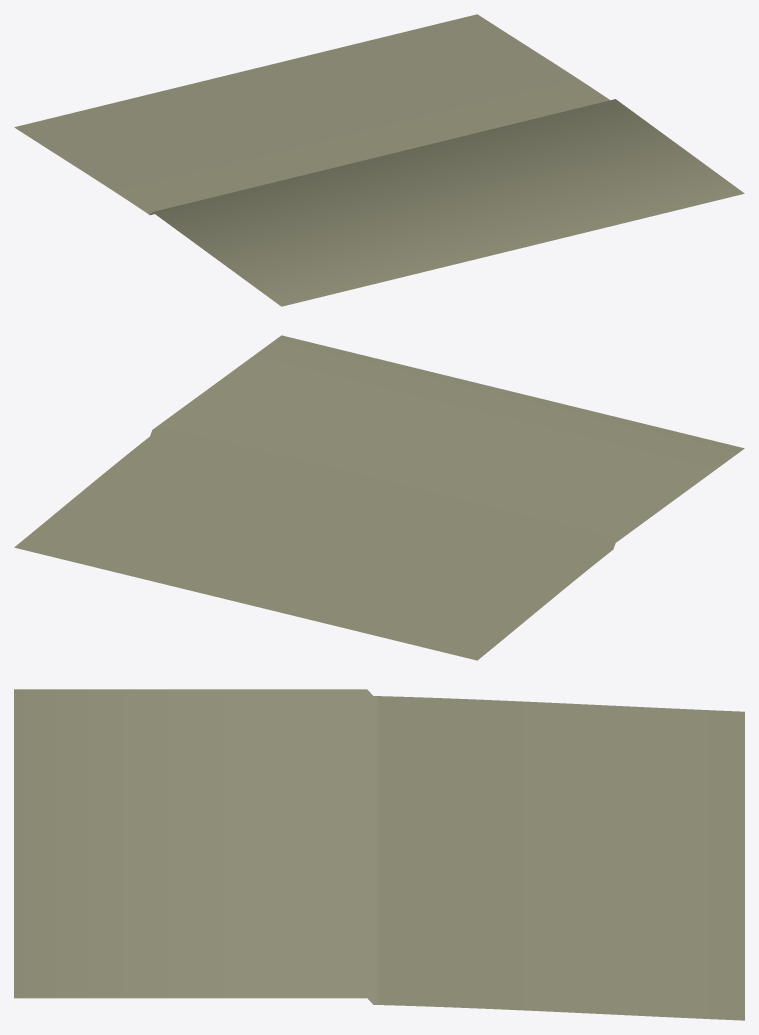
The model's file is SM_VB_CityTerrain_10_2.fbx.
3 views of the same model, one above another, from view 1: azimuth 30°, elevation 25°; view 2: azimuth 150°, elevation 25°; view 3: azimuth 270°, elevation 25° (orthographic). The views are drawn at different scales.
Parts seen in each view (by area): view 1: SM_VB_CityTerrain_10_2; view 2: SM_VB_CityTerrain_10_2; view 3: SM_VB_CityTerrain_10_2.
Boxes of the visible parts, x1,y1,x2,y2 form: SM_VB_CityTerrain_10_2: (14,14,744,306); SM_VB_CityTerrain_10_2: (14,335,744,660); SM_VB_CityTerrain_10_2: (14,689,744,1020).
Size of the model in its own units: 600 by 20.29 by 600.
